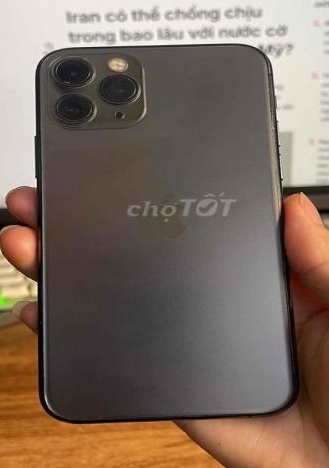scratch: (49, 53, 142, 122), (265, 55, 285, 193)
